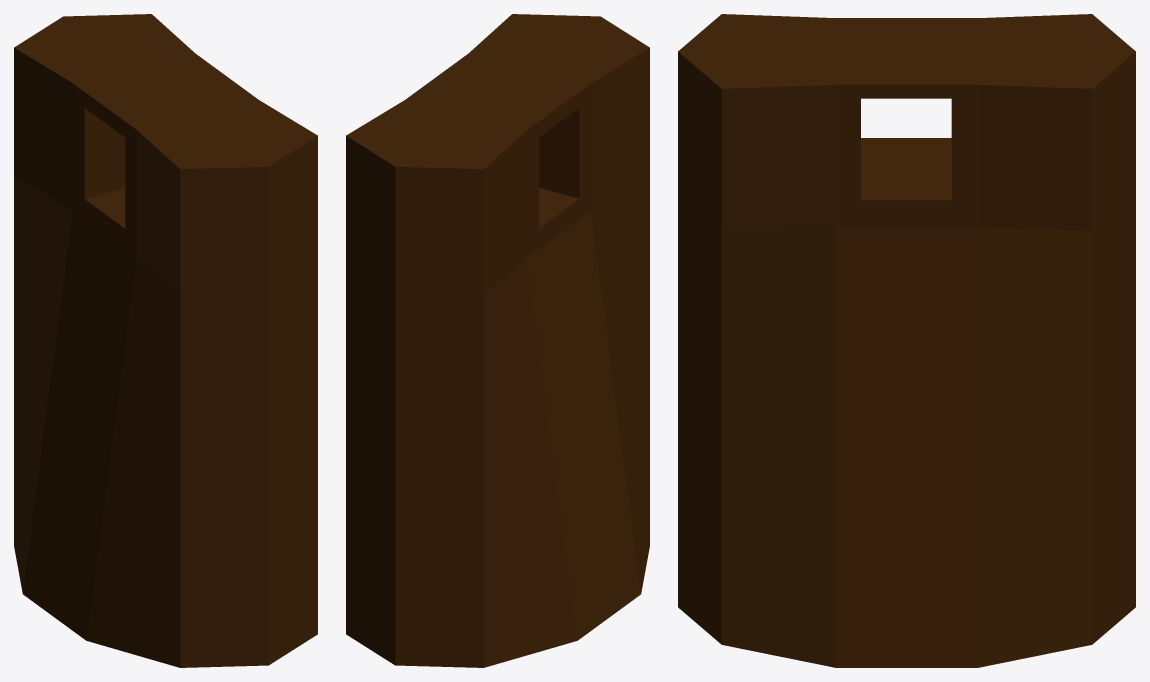
The model's file is SoporteBalanza.fbx.
The picture shows the model from 3 angles, left to right: view 1: azimuth 30°, elevation 25°; view 2: azimuth 150°, elevation 25°; view 3: azimuth 270°, elevation 25°; orthographic projection. The views are drawn at different scales.
Visible parts, largest first — view 1: Cylinder; view 2: Cylinder; view 3: Cylinder.
Boxes of the visible parts, x1=… form: Cylinder: x1=14, y1=14, x2=317, y2=667; Cylinder: x1=346, y1=14, x2=649, y2=667; Cylinder: x1=678, y1=14, x2=1135, y2=667.
Size of the model in its own units: 190 by 407 by 304.
